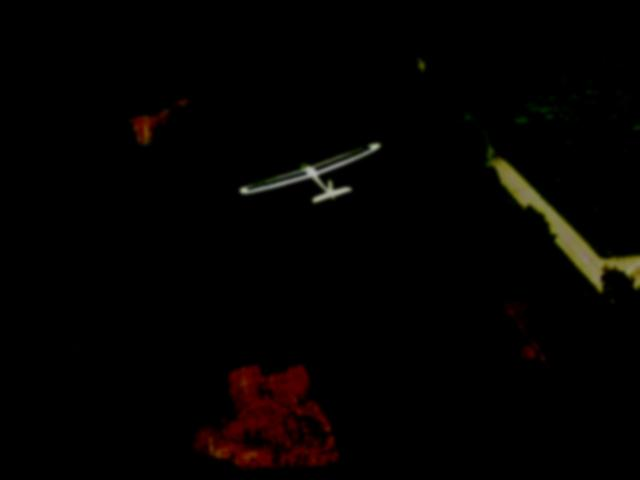uav: (220, 130, 397, 237)
